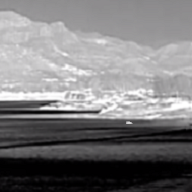Target: (125, 121, 133, 125)
